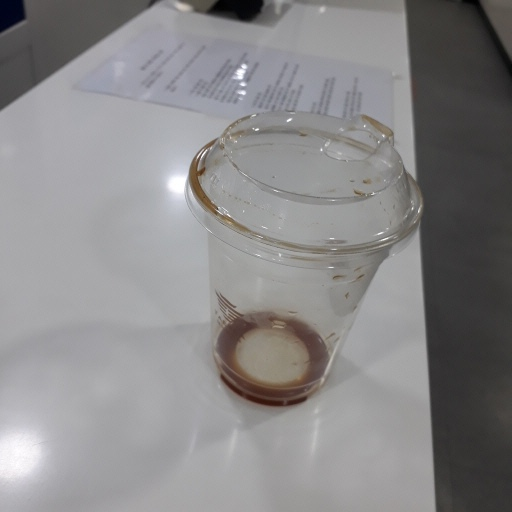Plastic_2: (188, 113, 422, 405)
